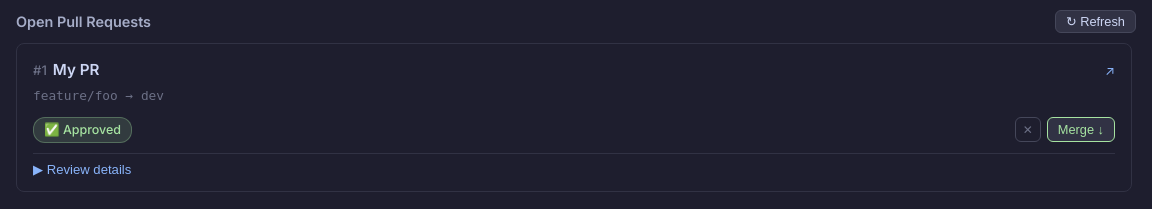
PRPanel — inflight state cleared by WS events › clears mergeInFlight when prMergedEvent arrives
Click the button "Merge ↓".
click(1081, 130)  # box [1047,117,1115,142]
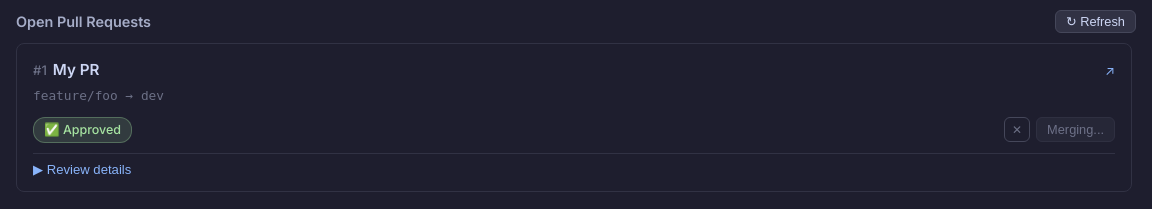
Result: the button "Merging..." is shown at [1036,117,1115,142]
